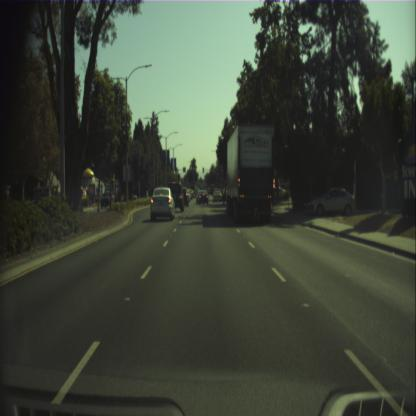off: (178, 174, 180, 180), (202, 168, 204, 172)
